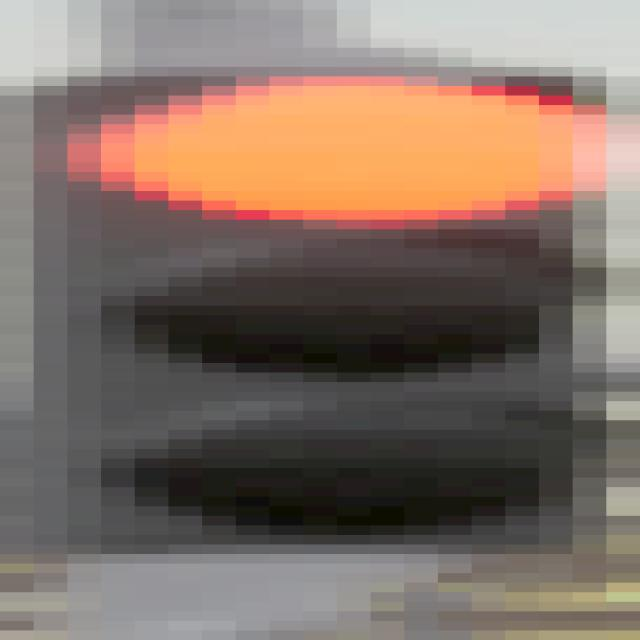red_light: (8, 74, 640, 556)
